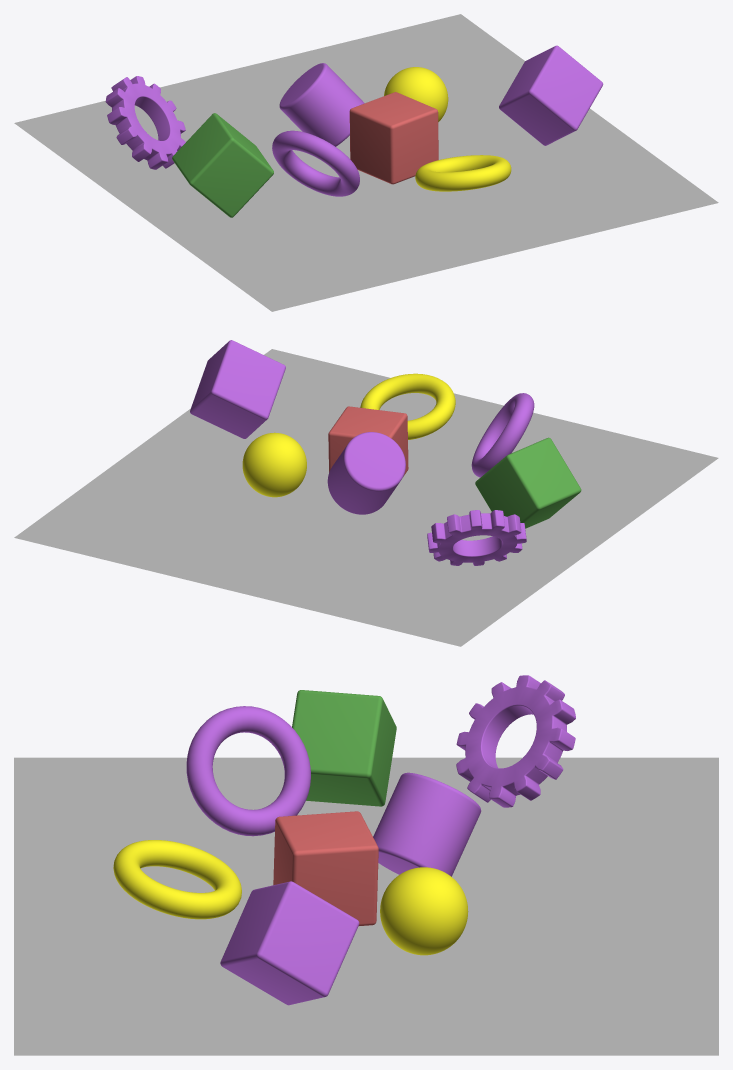
3 views of the same model, one above another, from view 1: azimuth 30°, elevation 25°; view 2: azimuth 150°, elevation 25°; view 3: azimuth 270°, elevation 25° (orthographic). The views are drawn at different scales.
Visible parts, largest first — view 1: Cube, FileBasedObject.006, FileBasedObject, FileBasedObject.002, FileBasedObject.001, FileBasedObject.005, FileBasedObject.004, FileBasedObject.003, FileBasedObject.007; view 2: Cube, FileBasedObject, FileBasedObject.002, FileBasedObject.005, FileBasedObject.001, FileBasedObject.007, FileBasedObject.003, FileBasedObject.004, FileBasedObject.006; view 3: Cube, FileBasedObject, FileBasedObject.002, FileBasedObject.001, FileBasedObject.006, FileBasedObject.004, FileBasedObject.005, FileBasedObject.003, FileBasedObject.007.
Part boxes in pixels (x1=…): Cube: x1=14, y1=14, x2=718, y2=311; FileBasedObject.006: x1=349, y1=92, x2=438, y2=184; FileBasedObject: x1=499, y1=45, x2=603, y2=145; FileBasedObject.002: x1=172, y1=113, x2=273, y2=217; FileBasedObject.001: x1=105, y1=76, x2=185, y2=169; FileBasedObject.005: x1=279, y1=63, x2=364, y2=146; FileBasedObject.004: x1=272, y1=130, x2=359, y2=196; FileBasedObject.003: x1=415, y1=155, x2=511, y2=191; FileBasedObject.007: x1=384, y1=67, x2=448, y2=121; Cube: x1=14, y1=349, x2=718, y2=646; FileBasedObject: x1=190, y1=340, x2=285, y2=438; FileBasedObject.002: x1=475, y1=437, x2=581, y2=528; FileBasedObject.005: x1=327, y1=432, x2=405, y2=514; FileBasedObject.001: x1=427, y1=510, x2=526, y2=565; FileBasedObject.007: x1=242, y1=432, x2=306, y2=497; FileBasedObject.003: x1=360, y1=373, x2=455, y2=439; FileBasedObject.004: x1=471, y1=393, x2=534, y2=477; FileBasedObject.006: x1=328, y1=406, x2=408, y2=476; Cube: x1=14, y1=757, x2=718, y2=1055; FileBasedObject: x1=220, y1=881, x2=359, y2=1005; FileBasedObject.002: x1=292, y1=690, x2=396, y2=806; FileBasedObject.001: x1=456, y1=675, x2=575, y2=807; FileBasedObject.006: x1=273, y1=811, x2=378, y2=925; FileBasedObject.004: x1=186, y1=706, x2=310, y2=836; FileBasedObject.005: x1=373, y1=772, x2=481, y2=876; FileBasedObject.003: x1=113, y1=840, x2=241, y2=919; FileBasedObject.007: x1=380, y1=867, x2=468, y2=955.
Bounding box in the file's own units: 8 × 1.67 × 8.
